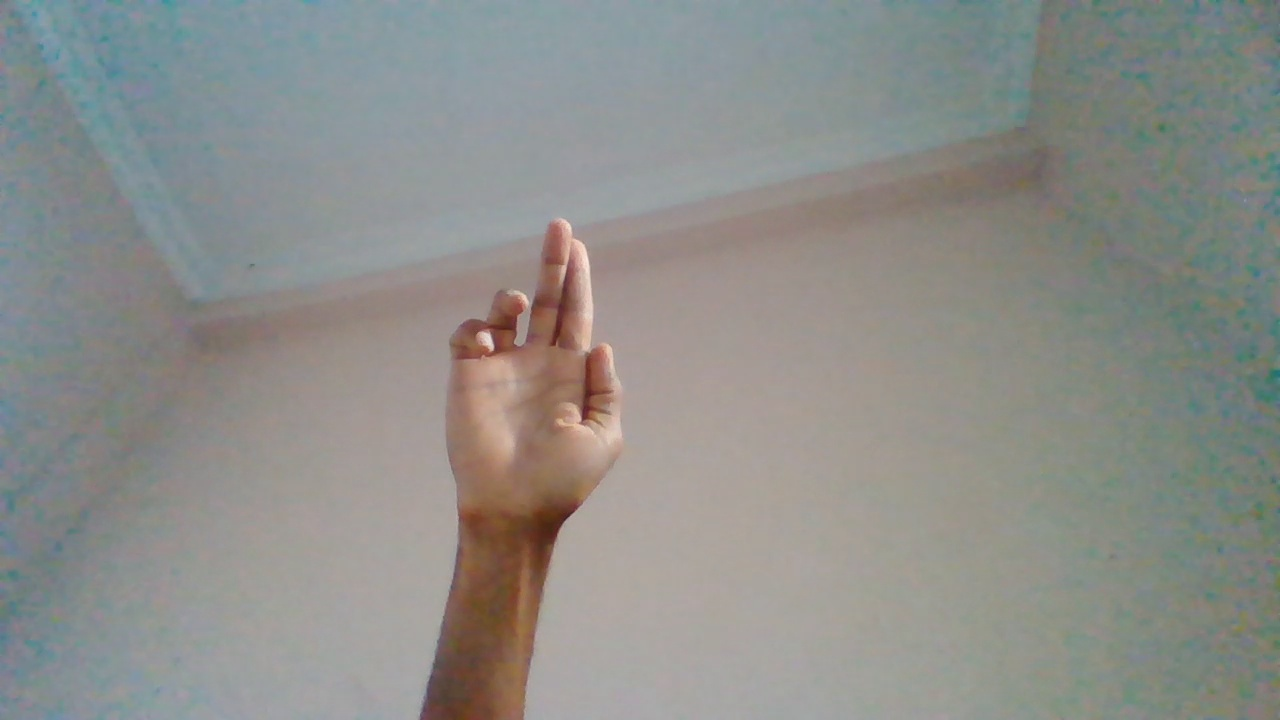gne: (434, 218, 628, 642)
